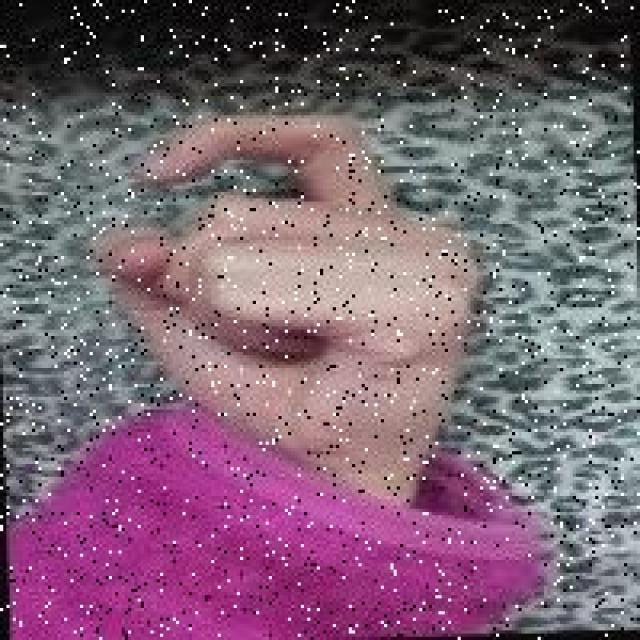X: (78, 91, 488, 504)
